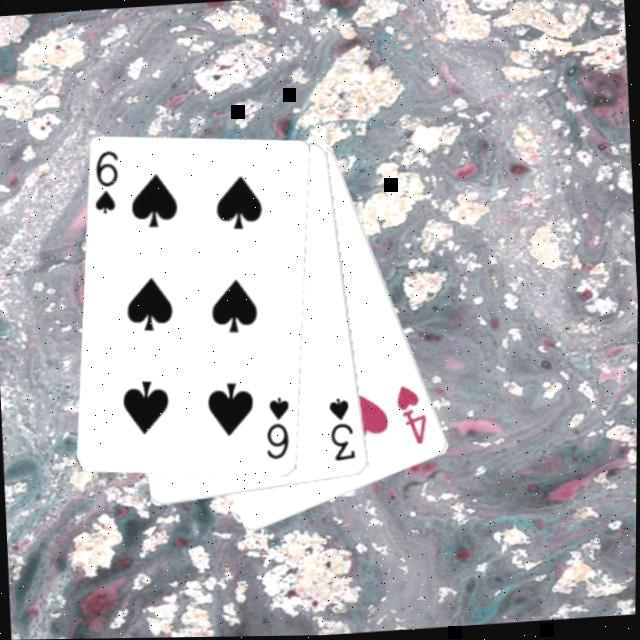3S: (327, 396, 362, 468)
4H: (395, 384, 434, 452)
6S: (91, 150, 127, 220), (263, 395, 298, 465)
